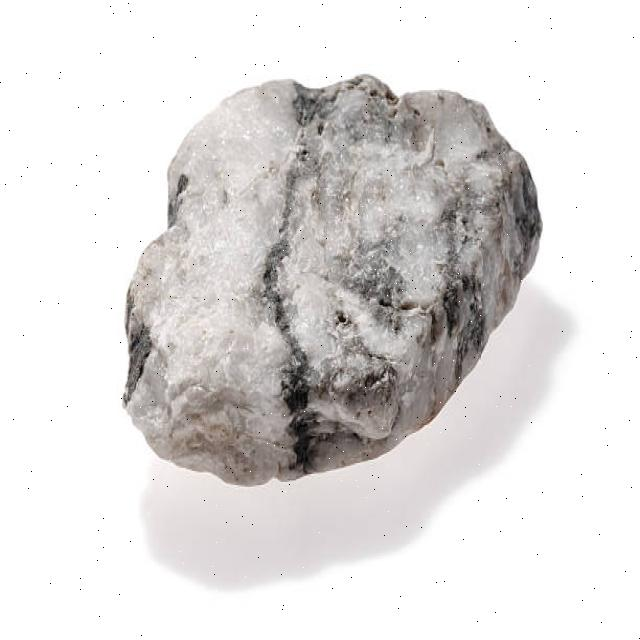Metamorphic: (120, 81, 538, 477)
